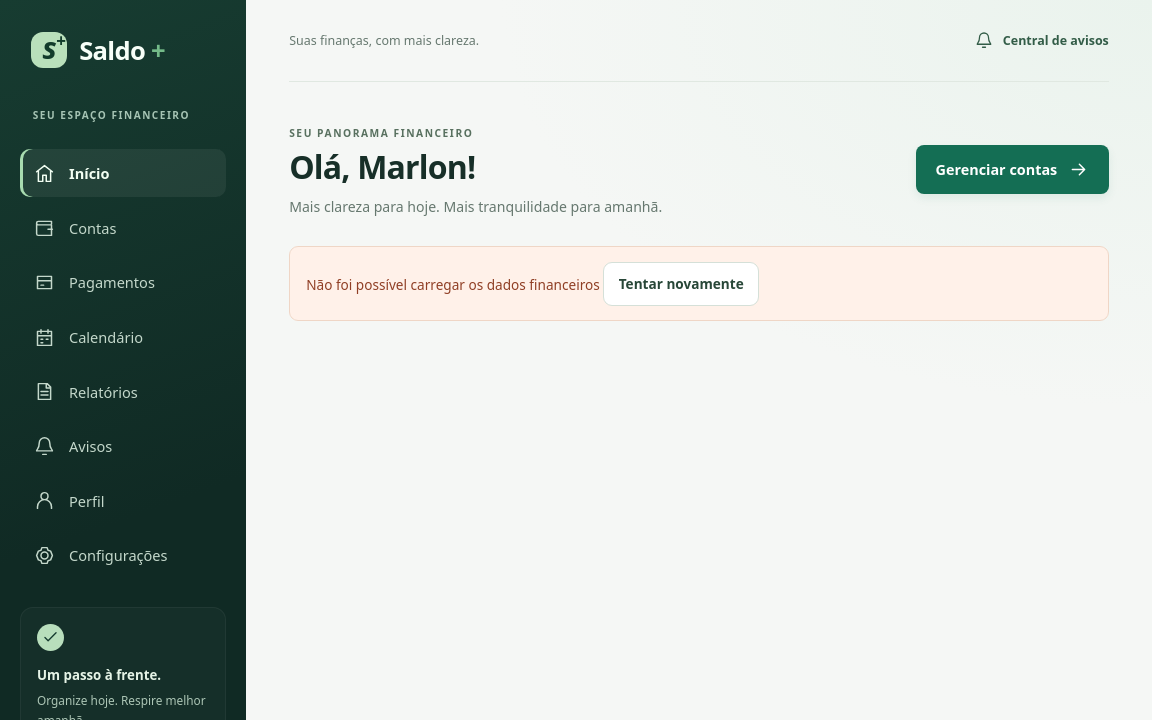
Test: AppLayout › abre e fecha o menu no mobile
Earlier steps of the test are not shown.
expect the element with class "layout-sidebar" has class "is-open": met, box [0,0,246,719]
Click the link "Perfil": click(69, 501) [34,490,104,511]
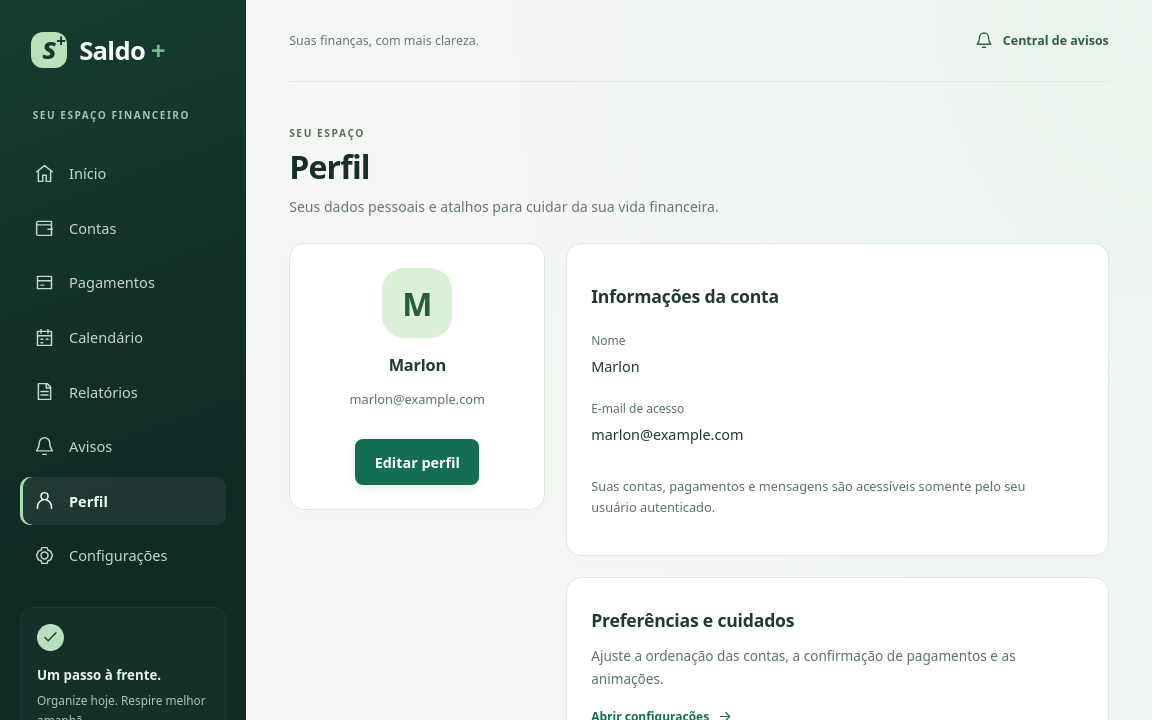
expect the element with class "layout-sidebar" does not have class "is-open": met, box [0,0,246,719]
